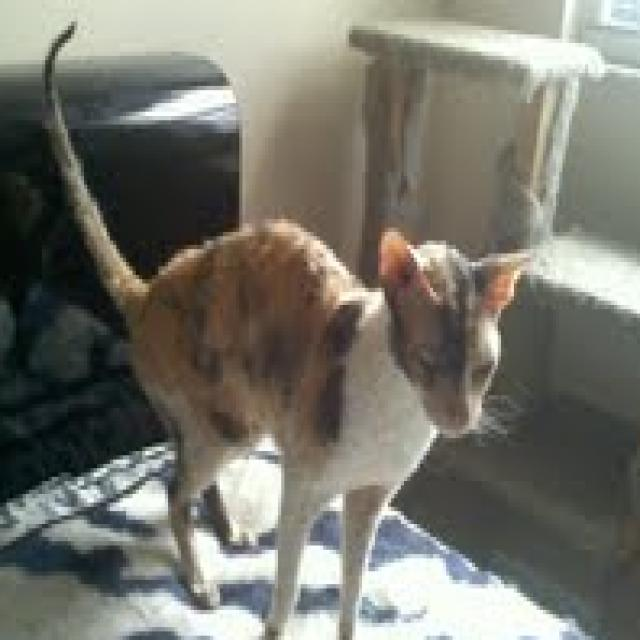Cornish Rex: (39, 13, 543, 640)
